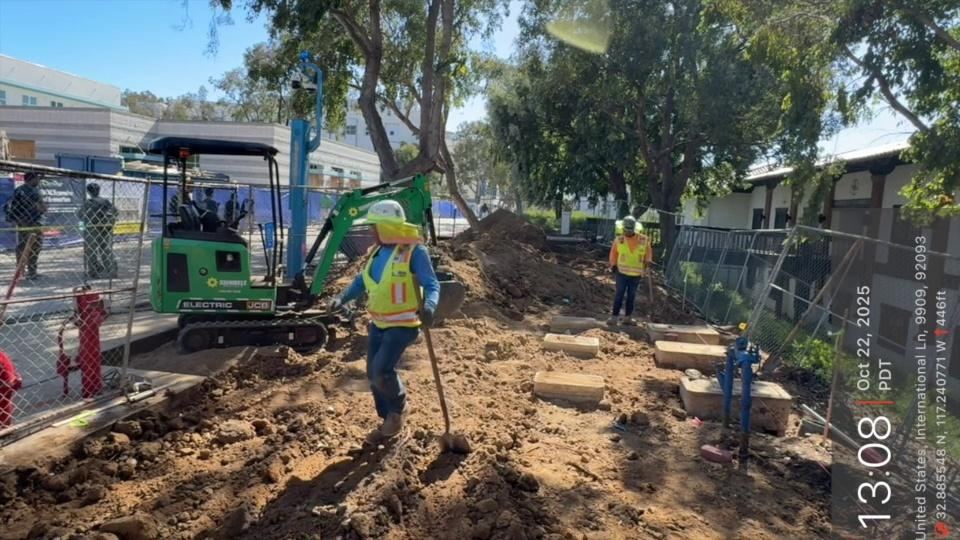Exacavator: (131, 113, 458, 361)
